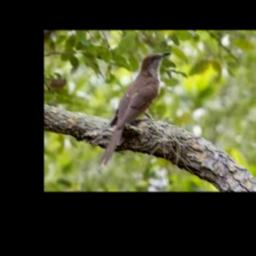Cuckoo: (97, 52, 171, 168)
